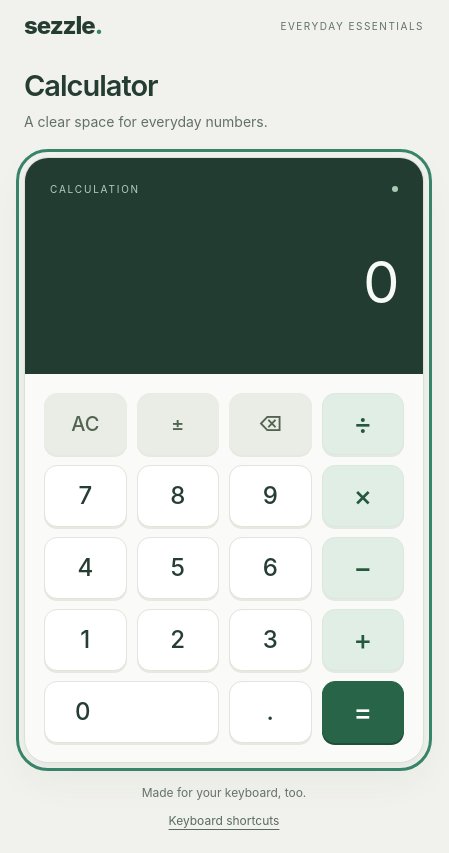
Test: shows a retryable timeout
Click the button "1" at (85,640), box [44,609,126,671]
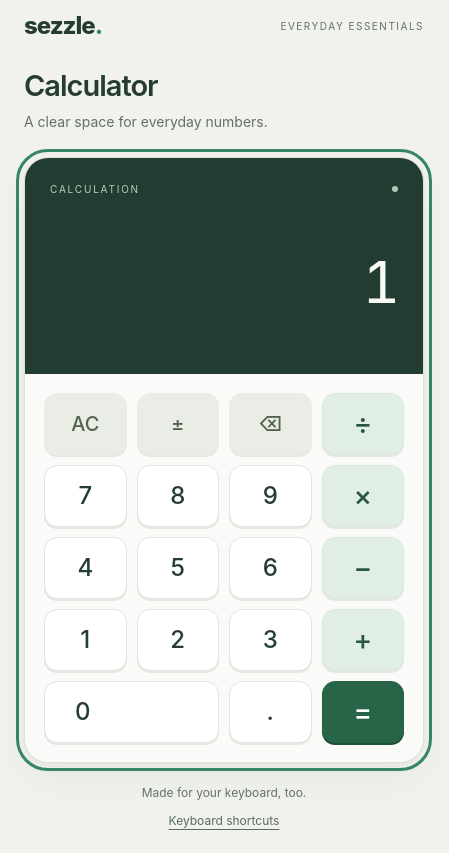
Click the button named "Add" at (363,640), box [322,609,404,671]
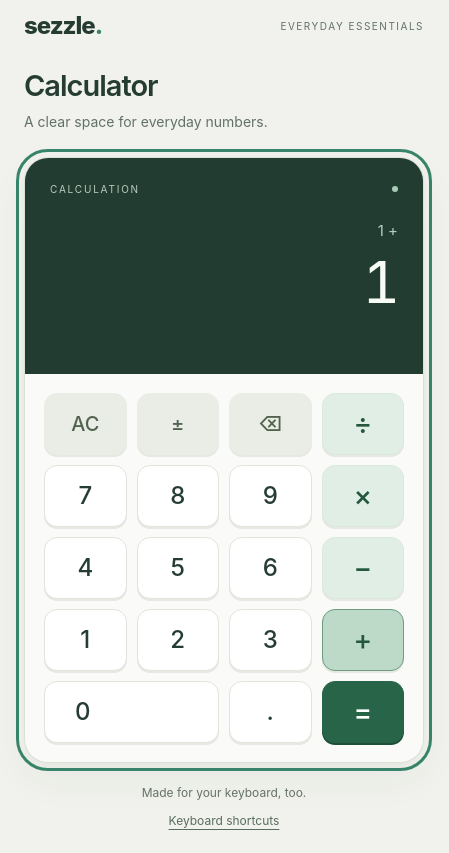
Click the button "2" at (178,640), box [136,609,219,671]
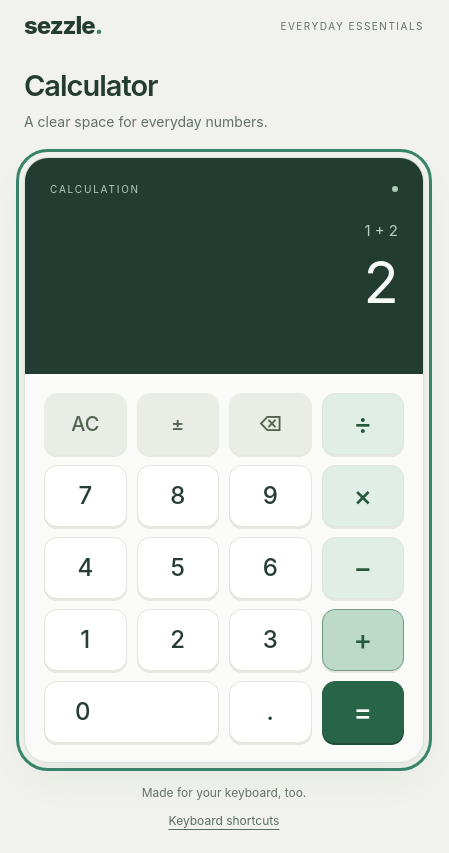
Click the button named "Equals" at (363,712), box [322,681,404,743]
Wait 10000 ms
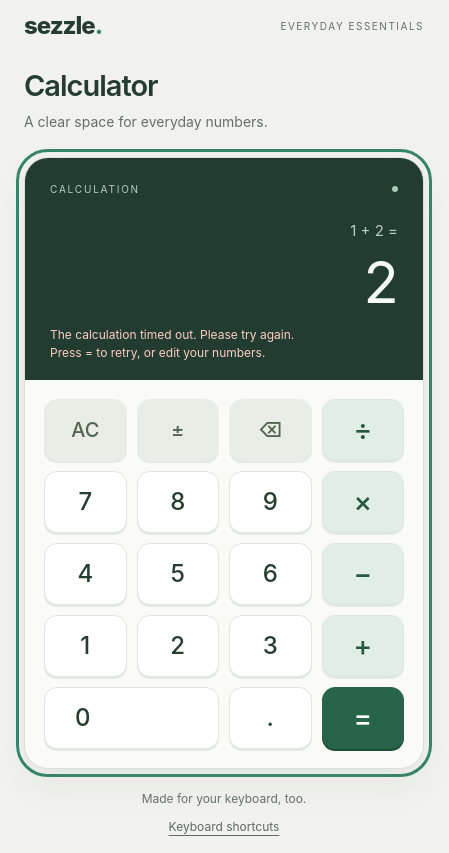
Now the message shows "timed out", box [50,327,294,342]
